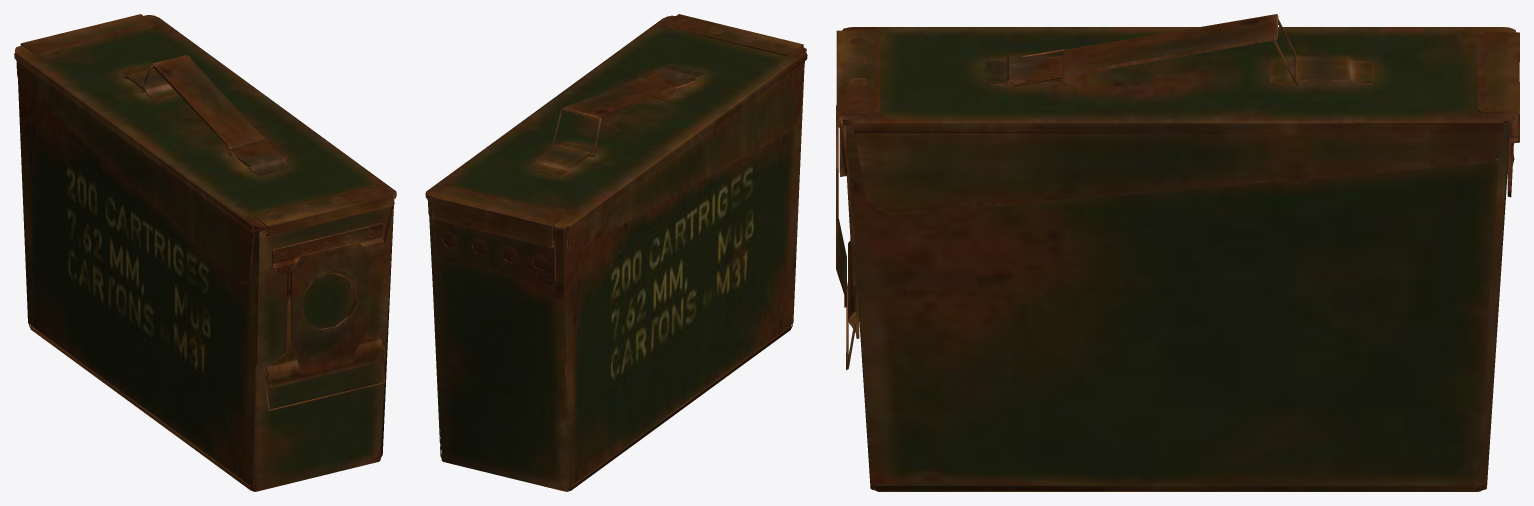
Rendered from ammo_box.glb.
3 renders of one model, left to right at view 1: azimuth 30°, elevation 25°; view 2: azimuth 150°, elevation 25°; view 3: azimuth 270°, elevation 25°, orthographic. The views are drawn at different scales.
Parts seen in each view (by area): view 1: ammo_box_handle_ring_b; view 2: ammo_box_handle_ring_b; view 3: ammo_box_handle_ring_b.
Boxes of the visible parts, x1,y1,x2,y2 form: ammo_box_handle_ring_b: (14, 14, 396, 491); ammo_box_handle_ring_b: (425, 14, 807, 491); ammo_box_handle_ring_b: (836, 14, 1519, 491).
Size of the model in its own units: 0.0865 by 0.1774 by 0.2577.
1 material, 1 textured.
